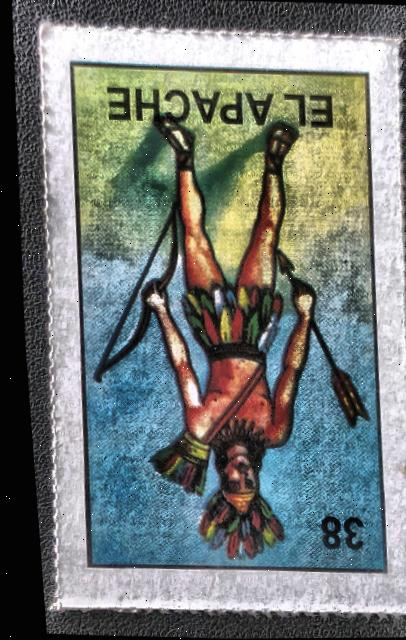El Apache: (33, 35, 406, 601)
